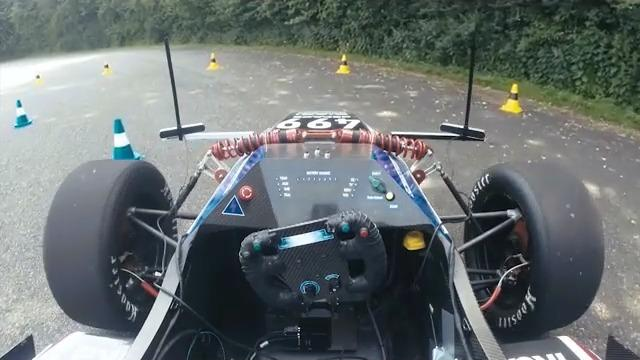blue_cone: (100, 117, 144, 164), (9, 94, 37, 130)
yellow_cone: (329, 53, 360, 84), (503, 77, 523, 114), (202, 49, 233, 71)
